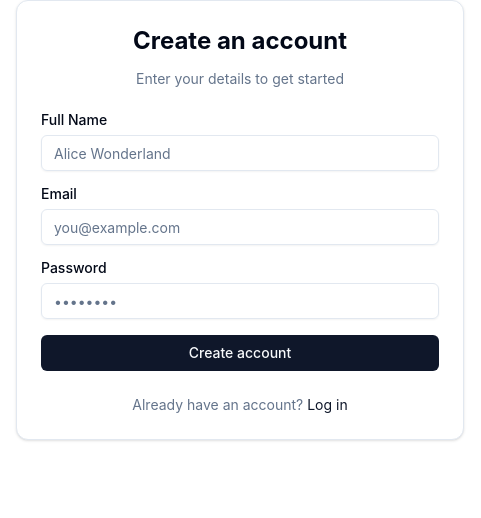
Scenario: Register page › displays error message on registration failure
Type "Alice" into the field labelled "Full Name" at (240, 153), box [41, 135, 439, 171]
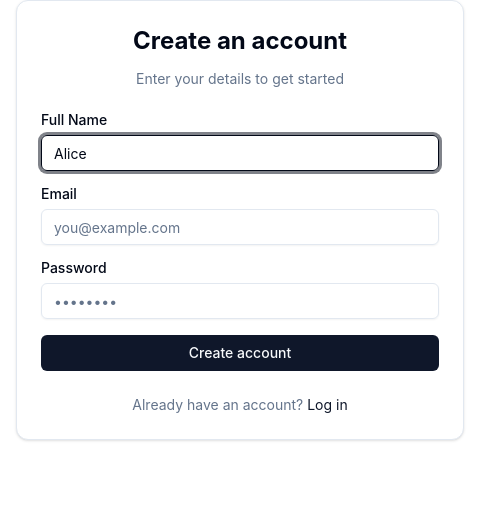
Type "alice@example.com" into the field labelled "Email" at (240, 227), box [41, 209, 439, 245]
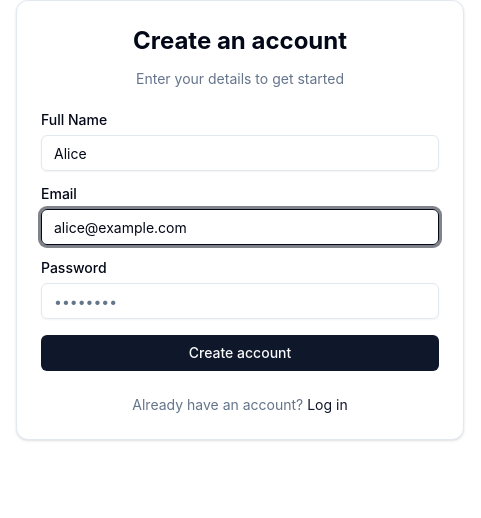
Type "Password123" into the password field labelled "Password" at (240, 301), box [41, 283, 439, 319]
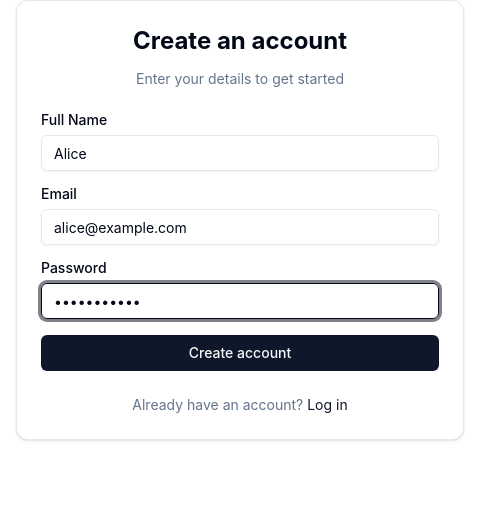
Submit the form from the button "Create account", box [41, 335, 439, 371]
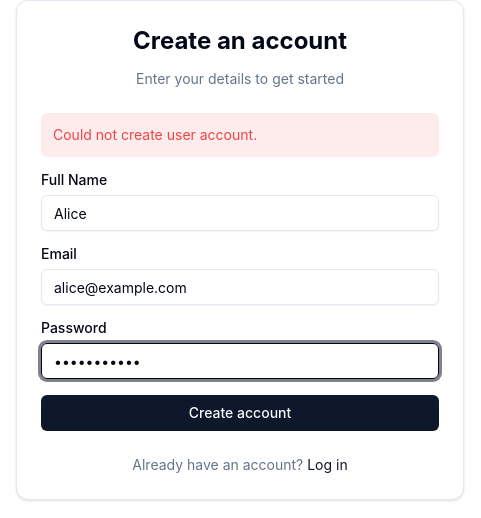
Now the text "Could not create user account." is shown, box [41, 113, 439, 157]
